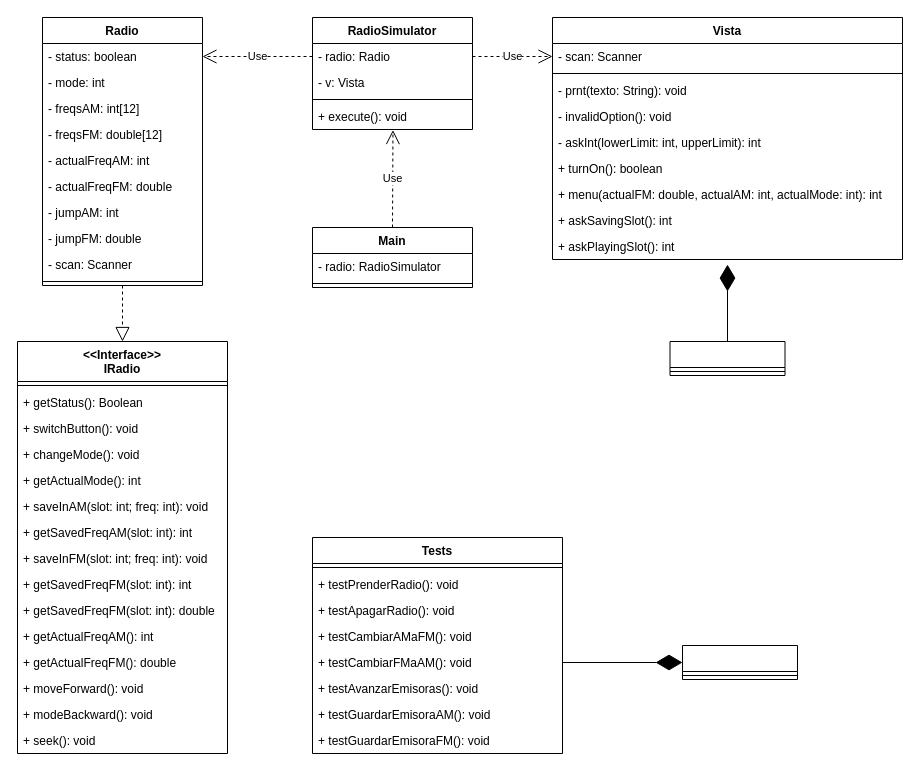
This 920x774 diagram has some shape labels left out. Each missing label, with the centre of its shape:
JUnit: (x=740, y=662)
Scanner: (x=727, y=358)
